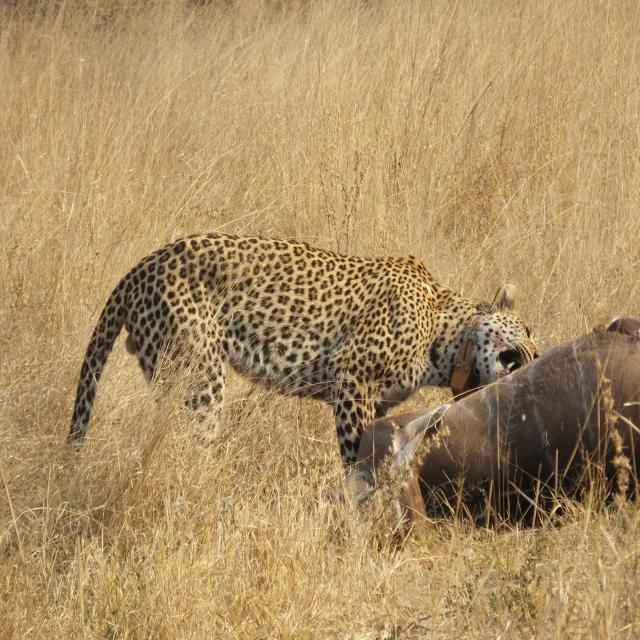Leopard: (69, 237, 538, 484)
